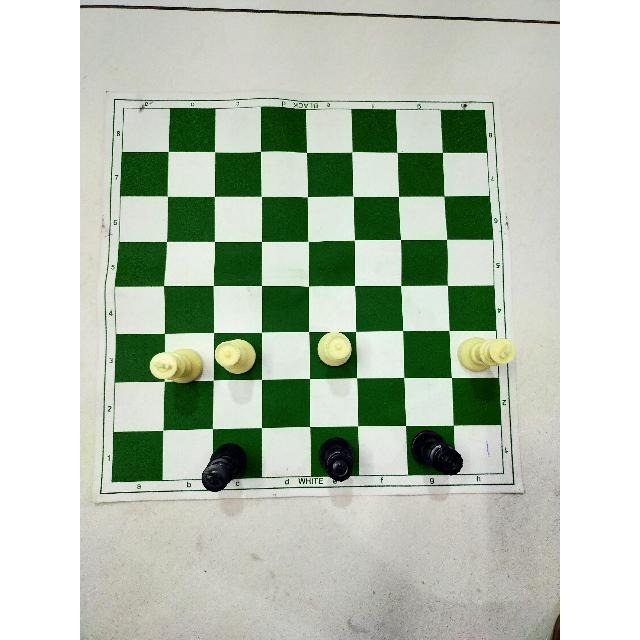black-king: (197, 440, 251, 494), (200, 440, 249, 496)
black-queen: (406, 426, 467, 478), (409, 427, 465, 477), (312, 431, 359, 485), (316, 436, 360, 482)
white-king: (144, 340, 208, 391), (454, 331, 518, 379), (144, 343, 207, 388), (456, 339, 519, 377)
white-queen: (212, 333, 259, 379), (312, 328, 357, 372), (212, 335, 258, 377), (314, 329, 354, 368)
